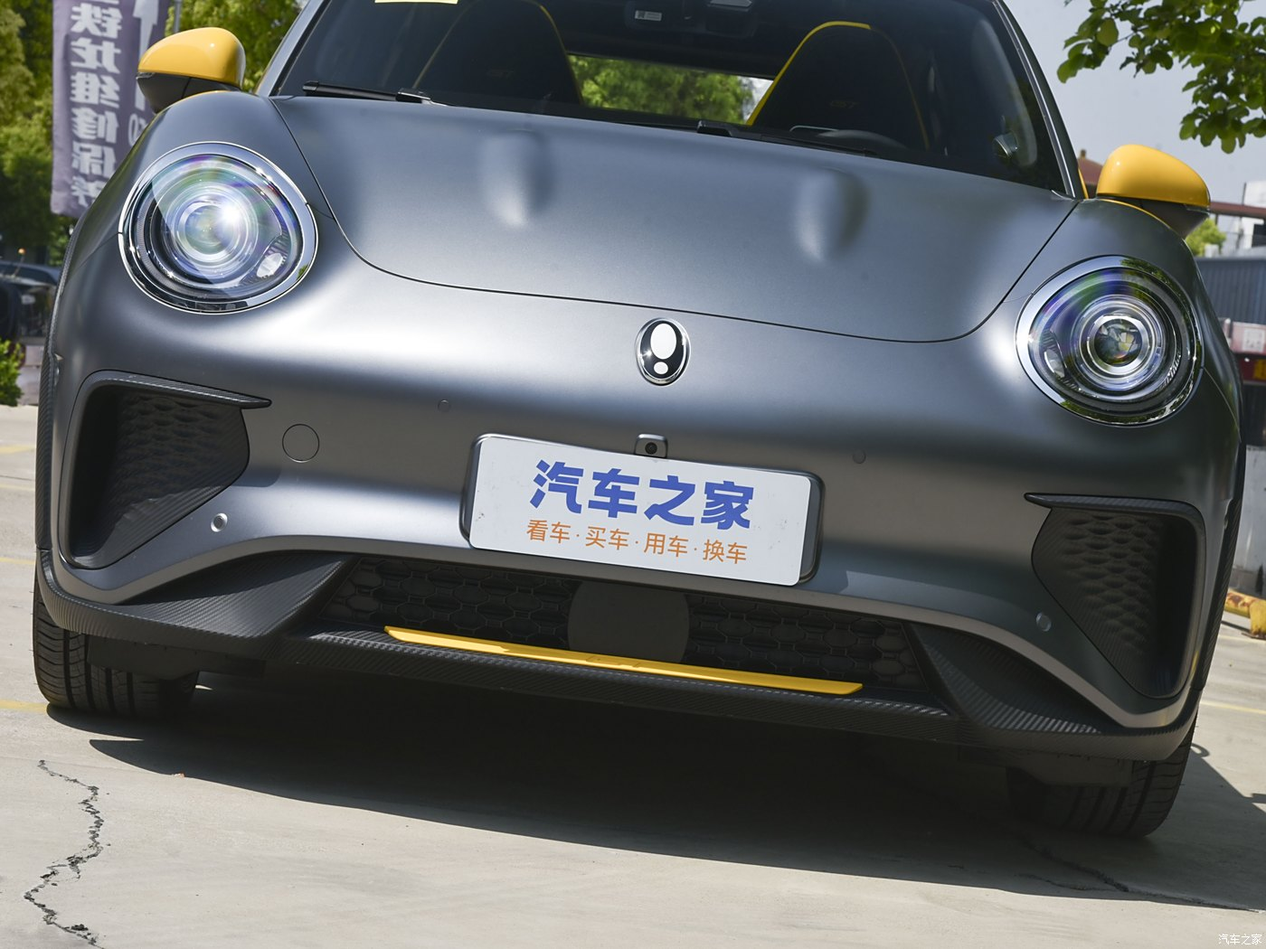ORA: (638, 317, 688, 383)
